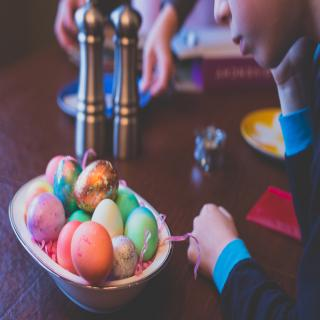Egg: (24, 154, 158, 284), (67, 222, 112, 283)
